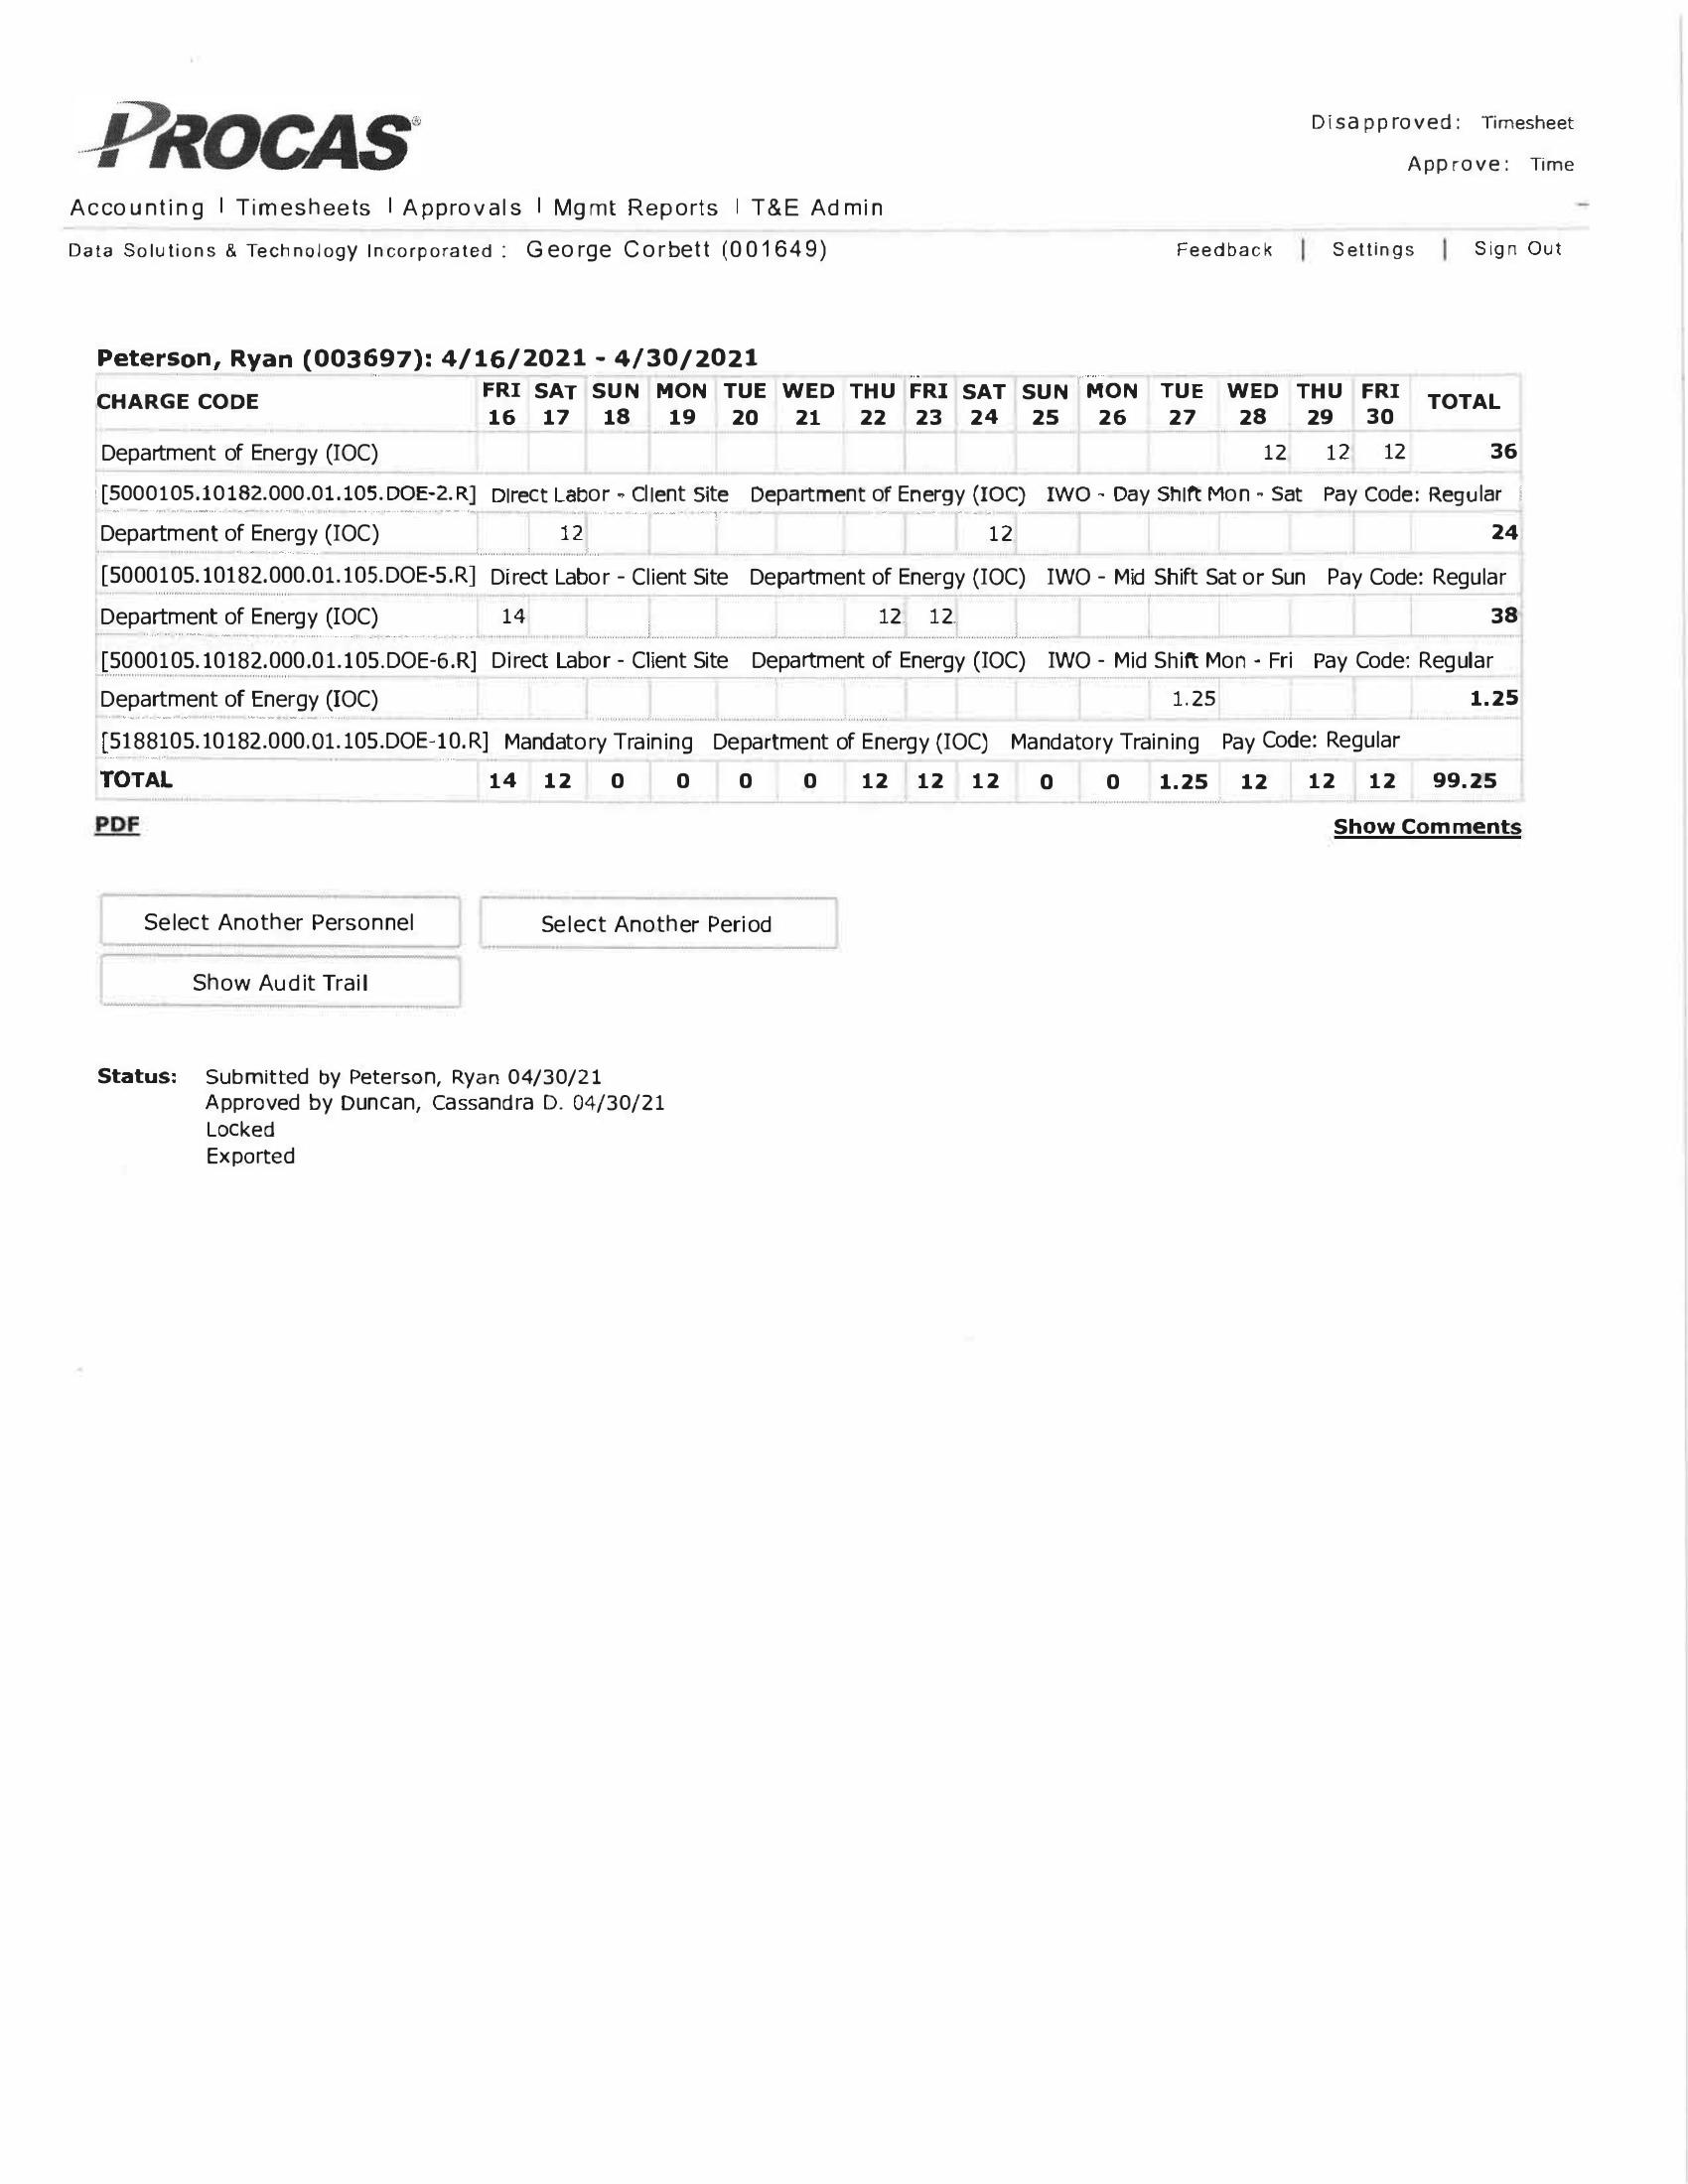table: (87, 367, 1527, 807)
